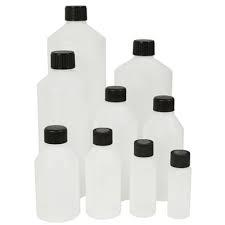Container for household chemicals: (110, 28, 184, 119), (45, 2, 108, 89), (34, 128, 87, 225), (36, 48, 87, 132), (87, 124, 122, 225), (92, 84, 141, 146), (126, 138, 160, 218), (165, 143, 196, 222), (148, 92, 184, 156)
